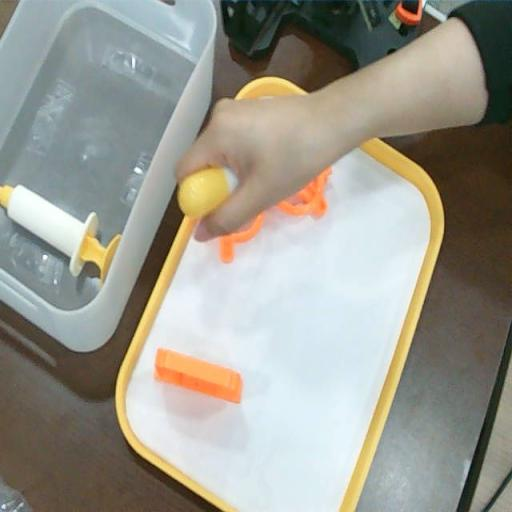hospital: (175, 88, 346, 242)
